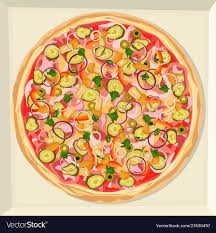pizza: (20, 18, 199, 198)
